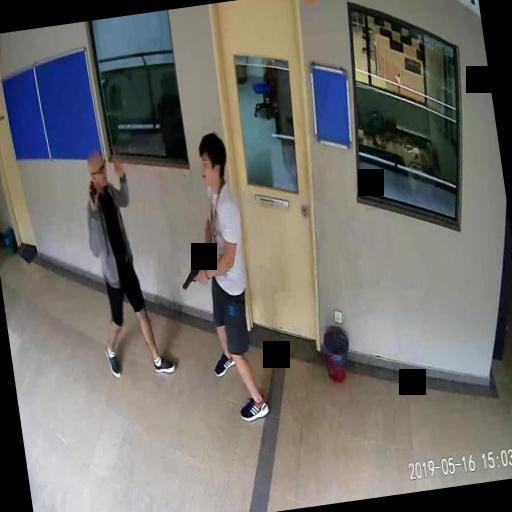Handgun: (180, 260, 202, 290)
